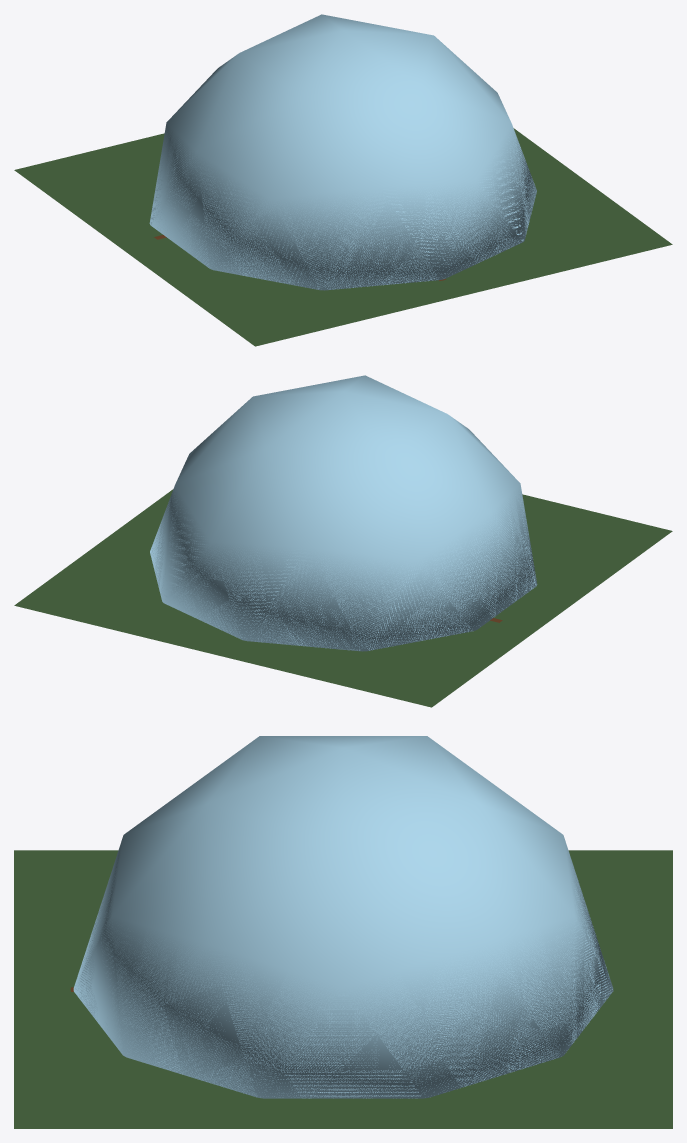
File: background.gltf
The picture shows the model from 3 angles, top to bottom: view 1: azimuth 30°, elevation 25°; view 2: azimuth 150°, elevation 25°; view 3: azimuth 270°, elevation 25°; orthographic projection. The views are drawn at different scales.
Visible parts, largest first — view 1: Skybox, Grass; view 2: Skybox, Grass; view 3: Skybox, Grass.
Part boxes in pixels (x1=…): Skybox: x1=149, y1=14, x2=536, y2=290; Grass: x1=14, y1=128, x2=672, y2=346; Skybox: x1=150, y1=375, x2=537, y2=651; Grass: x1=14, y1=489, x2=672, y2=707; Skybox: x1=73, y1=736, x2=613, y2=1098; Grass: x1=14, y1=850, x2=672, y2=1128.
Bounding box in the file's own units: 111 × 45.75 × 111.
